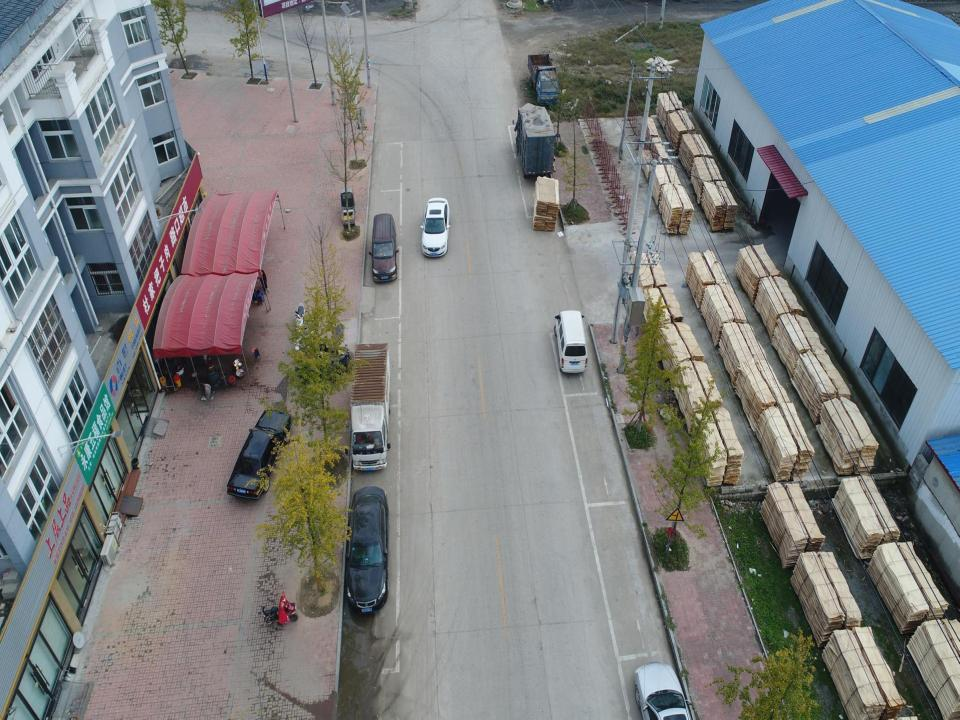car: (227, 408, 292, 500), (345, 486, 390, 613), (635, 662, 692, 720), (420, 198, 450, 258)
truck: (345, 343, 391, 472), (512, 103, 554, 179), (527, 52, 559, 106)
van: (554, 310, 588, 375), (369, 213, 398, 283)
